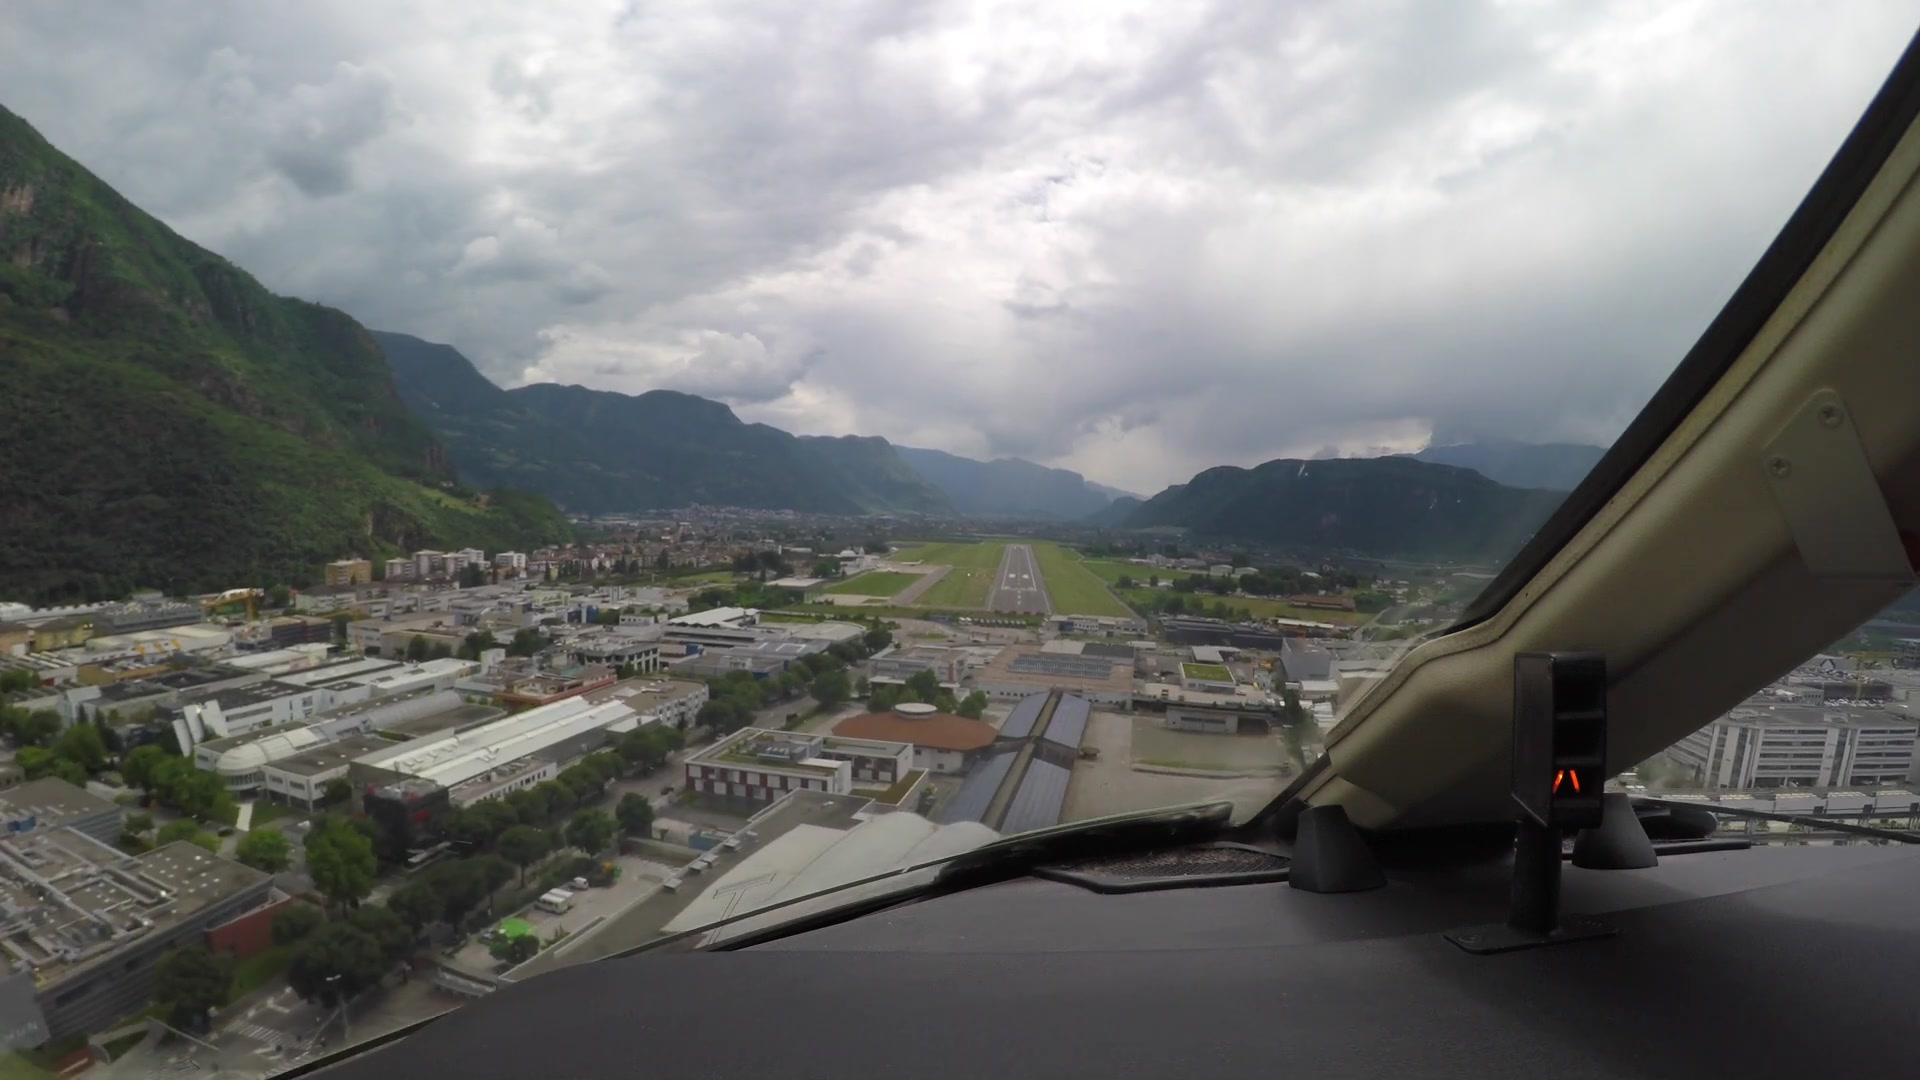entrance: (1002, 585, 1035, 592)
runway: (984, 545, 1054, 616)
